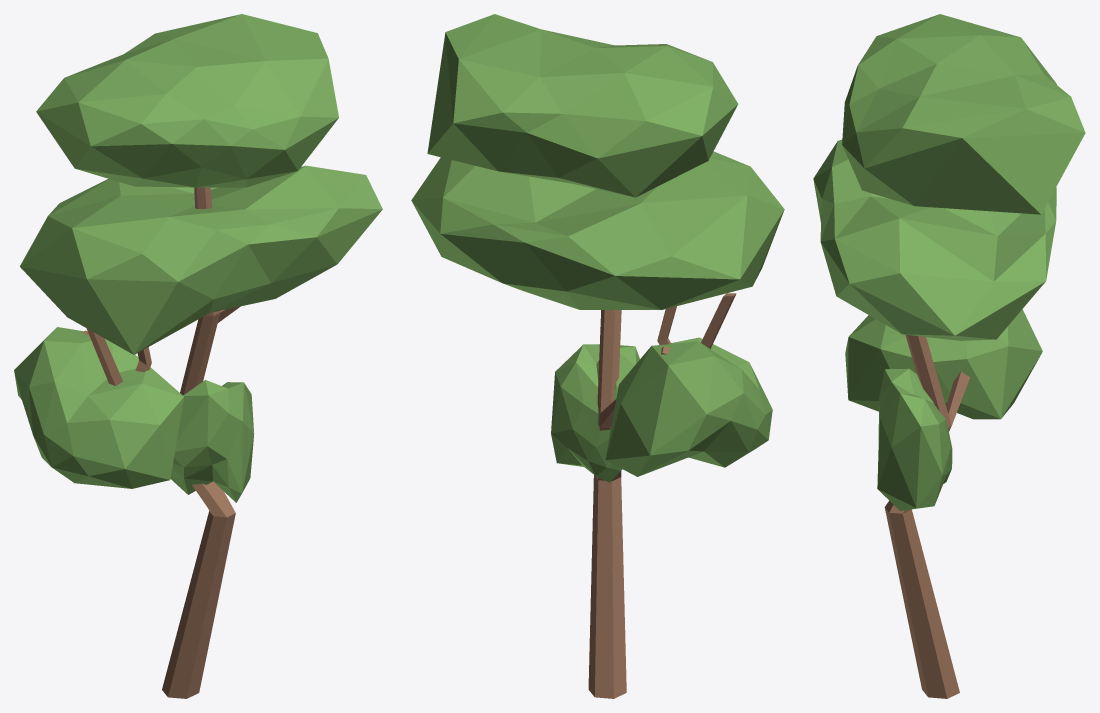
The model's file is tree4.fbx.
3 views of the same model, side by side, from view 1: azimuth 30°, elevation 25°; view 2: azimuth 150°, elevation 25°; view 3: azimuth 270°, elevation 25° (orthographic). The views are drawn at different scales.
Visible parts, largest first — view 1: tree4; view 2: tree4; view 3: tree4.
Part boxes in pixels (bbox=[...]): tree4: bbox=[14, 14, 382, 698]; tree4: bbox=[411, 14, 784, 698]; tree4: bbox=[813, 14, 1085, 698].
Bounding box in the file's own units: 3.49 × 6.29 × 2.43.
